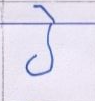e_matra: (33, 5, 57, 22)
